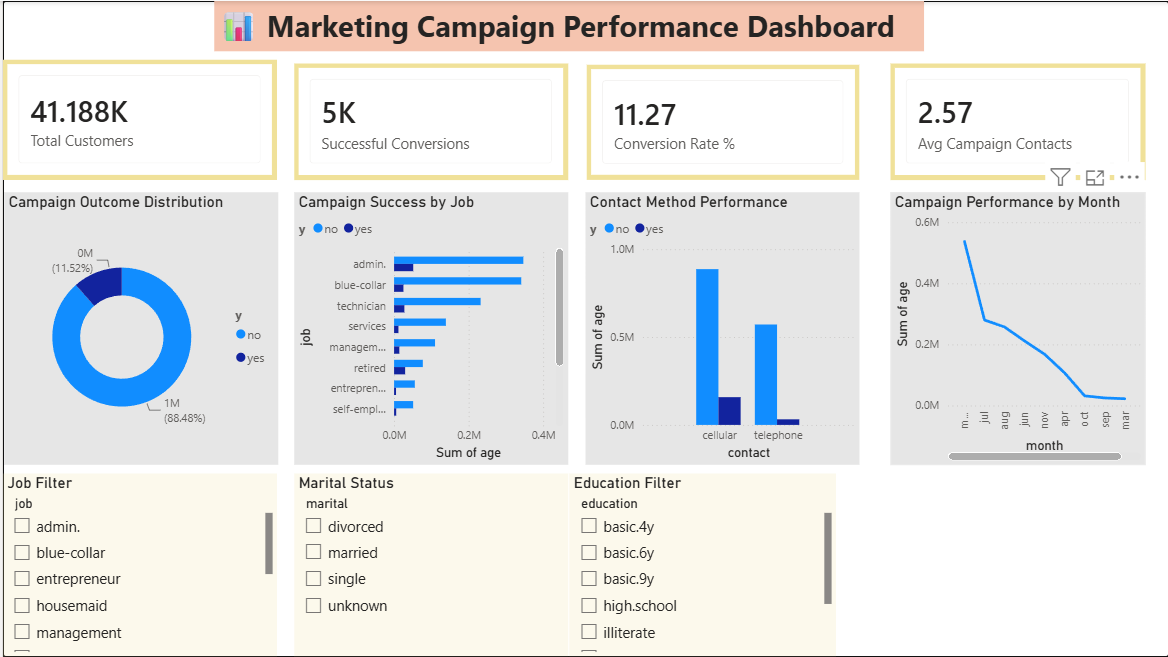

What the dashboard file says about the page in this screenshot:
{"tool":"powerbi","page":{"name":"Page 1","canvas":[1280,720],"ordinal":0},"visuals":[{"type":"cardVisual","fields":{"Data":["CountNonNull(bank-additional-full.age)"]},"box":[0,64.5,300.5,131.7],"z":0},{"type":"cardVisual","fields":{"Data":["bank-additional-full.Successful Conversions"]},"box":[319.7,68.6,300.5,127.6],"z":1000},{"type":"cardVisual","fields":{"Data":["bank-additional-full.Conversion Rate %"]},"box":[640.8,70,299.1,126.2],"z":2000},{"type":"cardVisual","fields":{"Data":["bank-additional-full.Avg Campaign Contacts"]},"box":[974.3,68.6,279.9,127.6],"z":3000},{"type":"donutChart","title":"Campaign Outcome Distribution","fields":{"Category":["bank-additional-full.y"],"Y":["Sum(bank-additional-full.age)"]},"box":[1.4,209.9,300.5,299.1],"z":4000},{"type":"clusteredBarChart","title":"Campaign Success by Job","fields":{"Category":["bank-additional-full.job"],"Y":["Sum(bank-additional-full.age)"],"Series":["bank-additional-full.y"]},"box":[319.7,209.9,300.5,299.1],"z":5000},{"type":"clusteredColumnChart","title":"Contact Method Performance","fields":{"Category":["bank-additional-full.contact"],"Y":["Sum(bank-additional-full.age)"],"Series":["bank-additional-full.y"]},"box":[639.5,209.9,300.5,299.1],"z":6000},{"type":"lineChart","title":"Campaign Performance by Month","fields":{"Category":["bank-additional-full.month"],"Y":["Sum(bank-additional-full.age)"]},"box":[974.3,209.9,279.9,299.1],"z":7000},{"type":"textbox","box":[231.9,0,779.4,54.9],"z":8000},{"type":"slicer","title":"Job Filter","fields":{"Values":["bank-additional-full.job"]},"box":[0,519,301,201],"z":9000},{"type":"slicer","title":"Marital Status","fields":{"Values":["bank-additional-full.marital"]},"box":[320,519,301,201],"z":10000},{"type":"slicer","title":"Education Filter","fields":{"Values":["bank-additional-full.education"]},"box":[621,519,293,201],"z":11000}]}

Visuals, with their boxes in screenshot pixels (x1, y1, x2, y2), scaled from the page's 1280x720 canvas onto the 1168x657 screenshot:
cardVisual - CountNonNull(bank-additional-full.age): [left=0, top=59, right=274, bottom=179]
cardVisual - bank-additional-full.Successful Conversions: [left=292, top=63, right=566, bottom=179]
cardVisual - bank-additional-full.Conversion Rate %: [left=585, top=64, right=858, bottom=179]
cardVisual - bank-additional-full.Avg Campaign Contacts: [left=889, top=63, right=1144, bottom=179]
"Campaign Outcome Distribution" donutChart: [left=1, top=192, right=275, bottom=464]
"Campaign Success by Job" clusteredBarChart: [left=292, top=192, right=566, bottom=464]
"Contact Method Performance" clusteredColumnChart: [left=584, top=192, right=858, bottom=464]
"Campaign Performance by Month" lineChart: [left=889, top=192, right=1144, bottom=464]
textbox: [left=212, top=0, right=923, bottom=50]
"Job Filter" slicer: [left=0, top=474, right=275, bottom=656]
"Marital Status" slicer: [left=292, top=474, right=567, bottom=656]
"Education Filter" slicer: [left=567, top=474, right=834, bottom=656]
